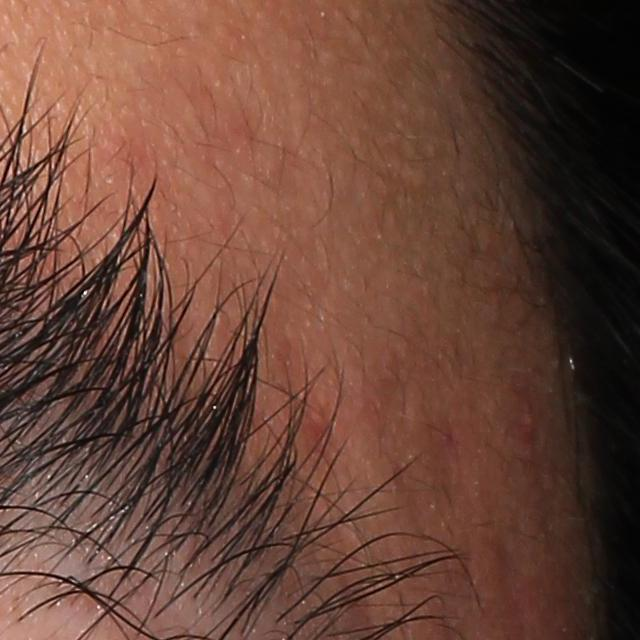papule: (511, 401, 545, 450)
